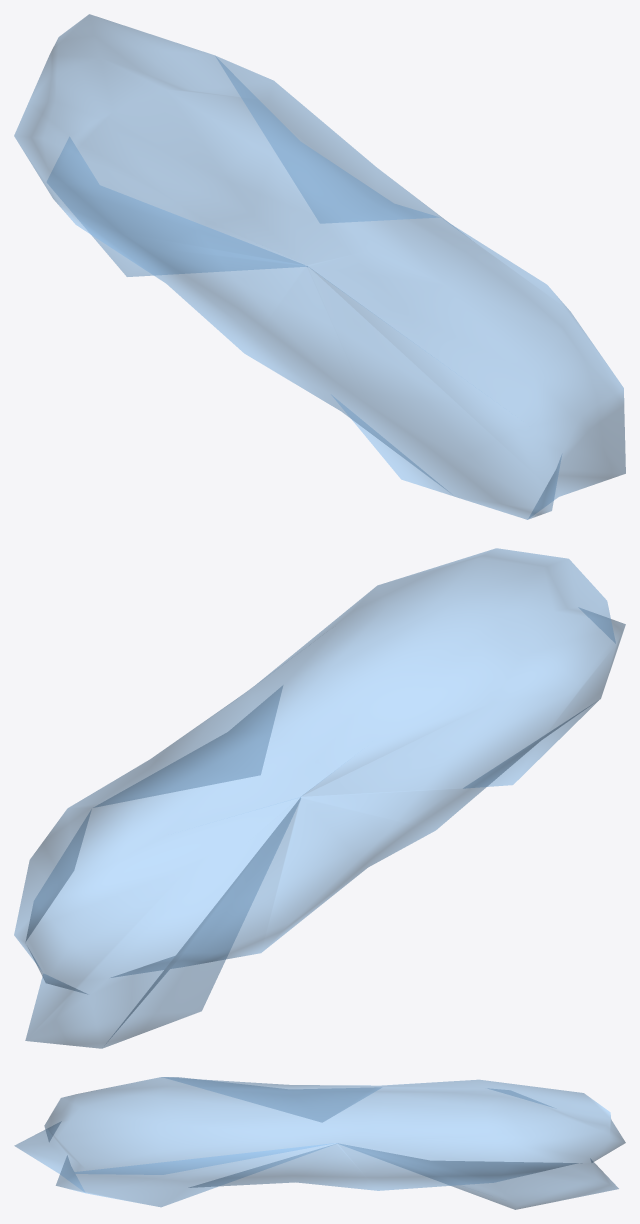
The model's file is ttanker_shield.gltf.
The picture shows the model from 3 angles, top to bottom: view 1: azimuth 30°, elevation 25°; view 2: azimuth 150°, elevation 25°; view 3: azimuth 270°, elevation 25°; orthographic projection. The views are drawn at different scales.
Parts seen in each view (by area): view 1: ttanker.shield; view 2: ttanker.shield; view 3: ttanker.shield.
Boxes of the visible parts, x1,y1,x2,y2 form: ttanker.shield: [14, 14, 625, 519]; ttanker.shield: [14, 548, 625, 1048]; ttanker.shield: [14, 1077, 625, 1209].
Size of the model in its own units: 6.78 by 5.2 by 25.2.
